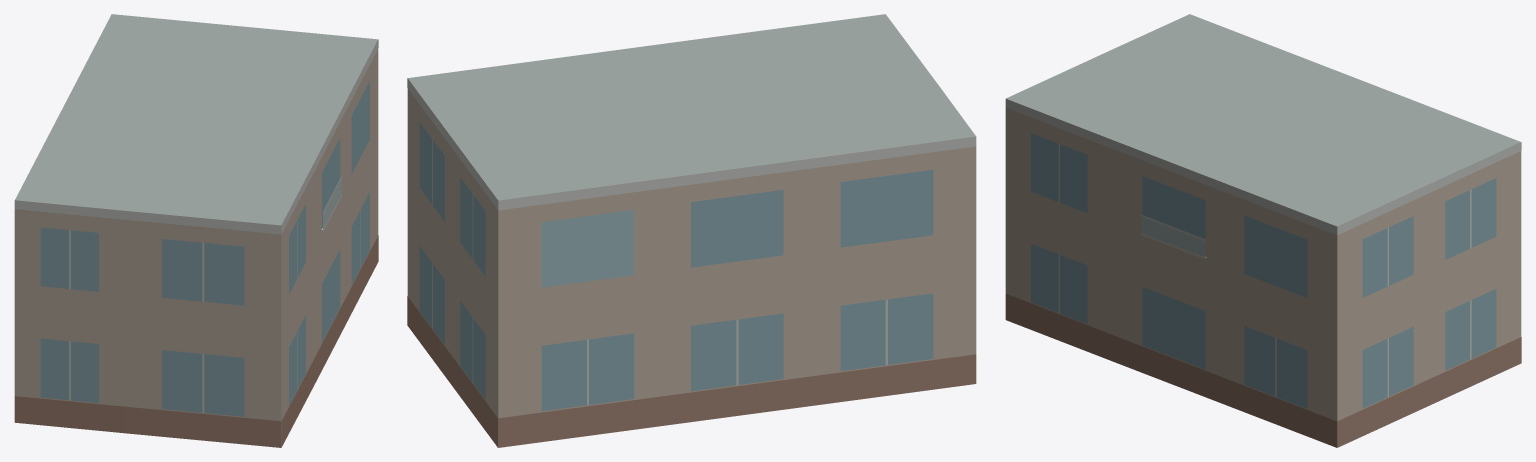
The model's file is survey-upis-33007798.glb.
The picture shows the model from 3 angles, left to right: view 1: azimuth 30°, elevation 25°; view 2: azimuth 150°, elevation 25°; view 3: azimuth 270°, elevation 25°; orthographic projection. The views are drawn at different scales.
Parts seen in each view (by area): view 1: survey-upis-33007798.tmp; view 2: survey-upis-33007798.tmp; view 3: survey-upis-33007798.tmp.
Boxes of the visible parts, box(x1,y1,x2,y2) form: survey-upis-33007798.tmp: box(14, 14, 378, 447); survey-upis-33007798.tmp: box(407, 14, 976, 447); survey-upis-33007798.tmp: box(1005, 14, 1521, 447).
Size of the model in its own units: 12.57 by 6.1 by 12.89.
